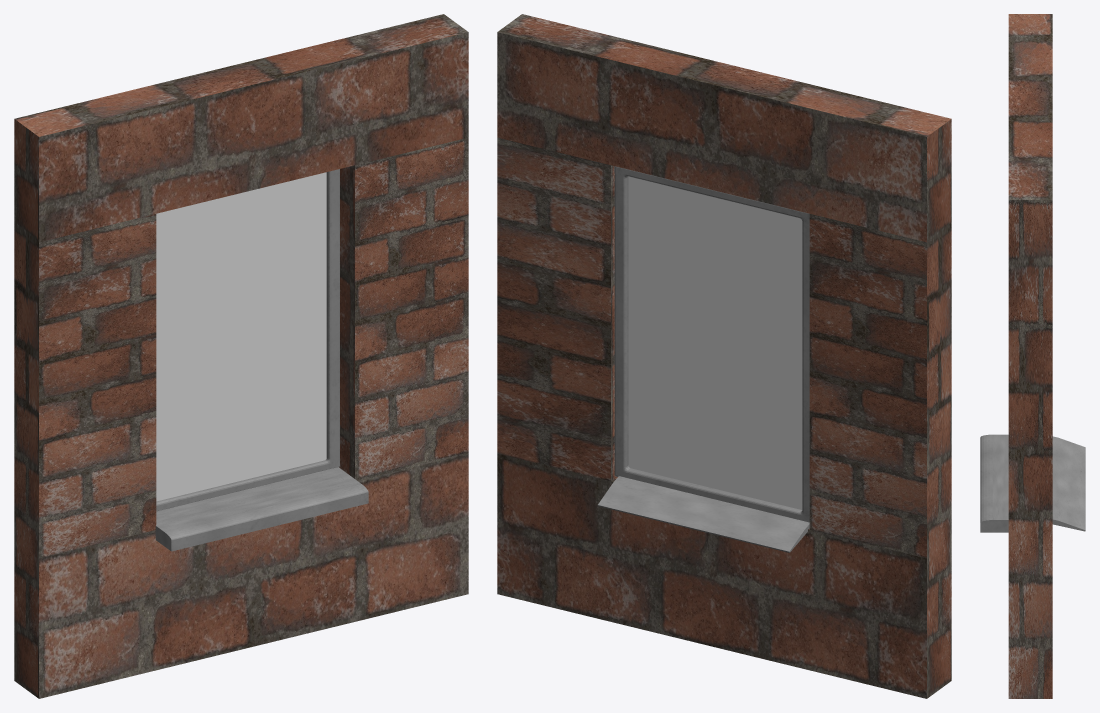
The model's file is SimpleWindow.fbx.
3 renders of one model, left to right at view 1: azimuth 30°, elevation 25°; view 2: azimuth 150°, elevation 25°; view 3: azimuth 270°, elevation 25°, orthographic. The views are drawn at different scales.
Visible parts, largest first — view 1: Cube.001, Cube.003, Cube.005, Cube.002; view 2: Cube.001, Cube.003, Cube.002, Cube.006; view 3: Cube.001, Cube.006, Cube.005.
Boxes of the visible parts, left/top/right/bottom form: Cube.001: left=14, top=14, right=468, bottom=698; Cube.003: left=156, top=172, right=326, bottom=501; Cube.005: left=155, top=467, right=368, bottom=551; Cube.002: left=156, top=169, right=339, bottom=511; Cube.001: left=497, top=14, right=951, bottom=698; Cube.003: left=628, top=176, right=802, bottom=509; Cube.002: left=614, top=166, right=809, bottom=522; Cube.006: left=597, top=476, right=809, bottom=552; Cube.001: left=1008, top=14, right=1052, bottom=698; Cube.006: left=1052, top=436, right=1085, bottom=531; Cube.005: left=980, top=434, right=1008, bottom=532.
Size of the model in its own units: 200 by 250 by 47.84.
